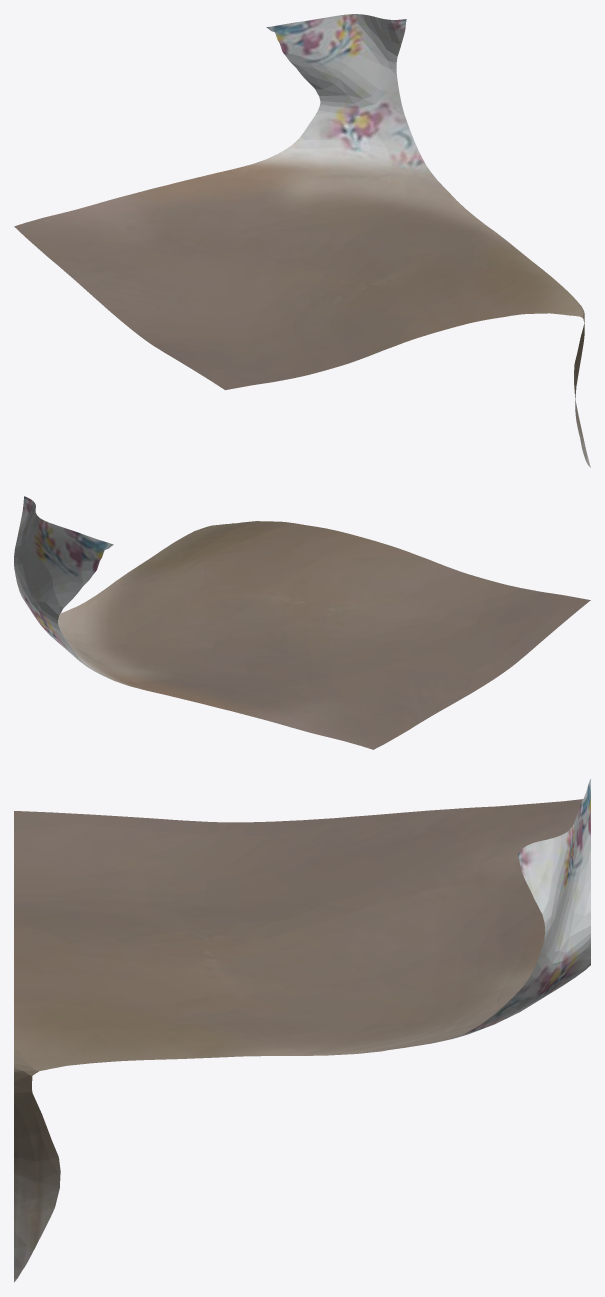
3 renders of one model, top to bottom at view 1: azimuth 30°, elevation 25°; view 2: azimuth 150°, elevation 25°; view 3: azimuth 270°, elevation 25°, orthographic. The views are drawn at different scales.
Parts seen in each view (by area): view 1: 091_W_Aya_100K_01; view 2: 091_W_Aya_100K_01; view 3: 091_W_Aya_100K_01.
Part boxes in pixels (x1,y1,x2,y2): 091_W_Aya_100K_01: (14, 14, 590, 467); 091_W_Aya_100K_01: (14, 496, 590, 749); 091_W_Aya_100K_01: (14, 779, 590, 1282).
Size of the model in its own units: 171 by 141 by 171.
1 material, 1 textured.
